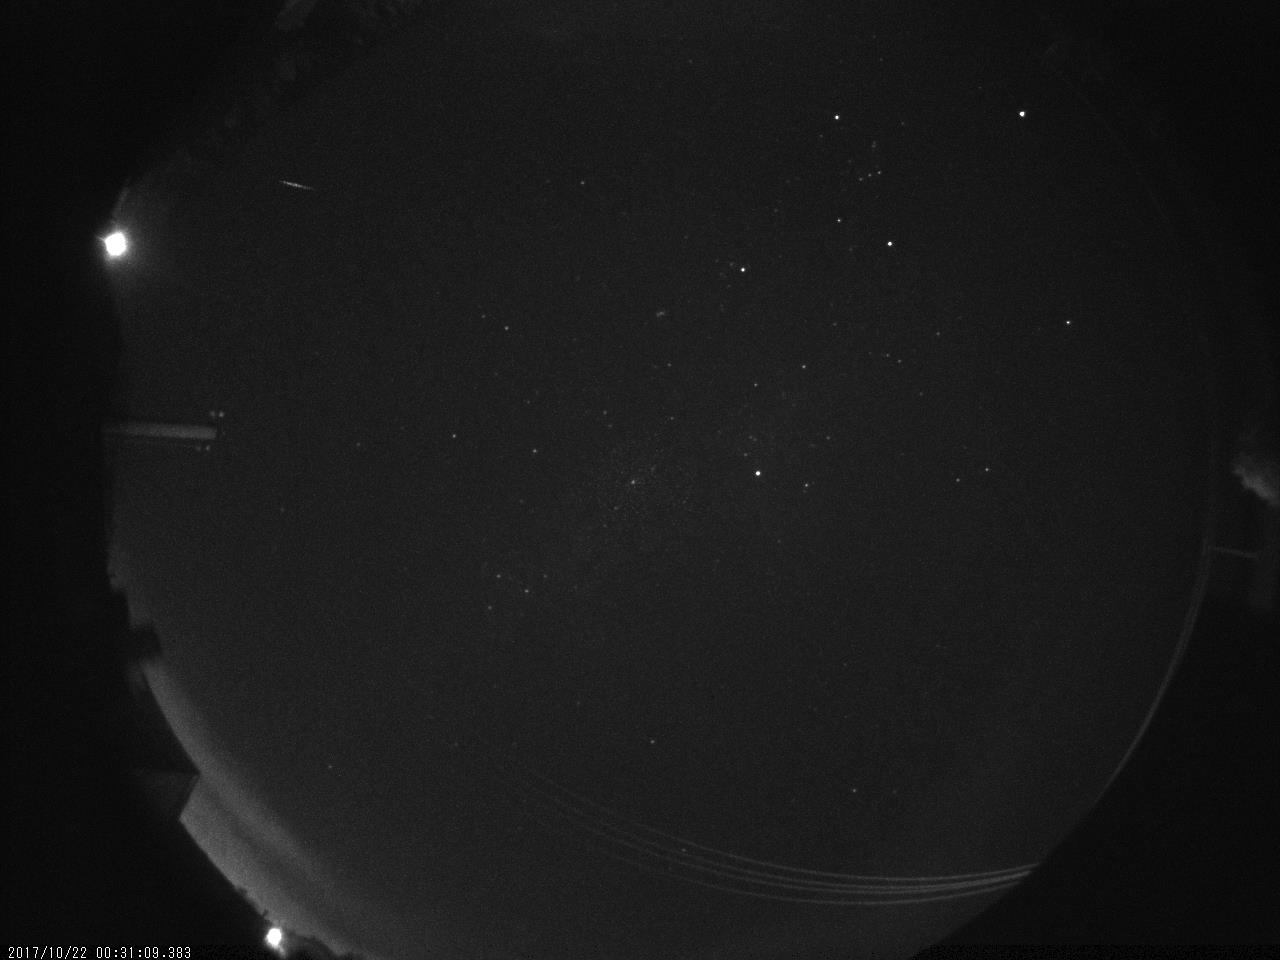meteor: (262, 166, 318, 199)
